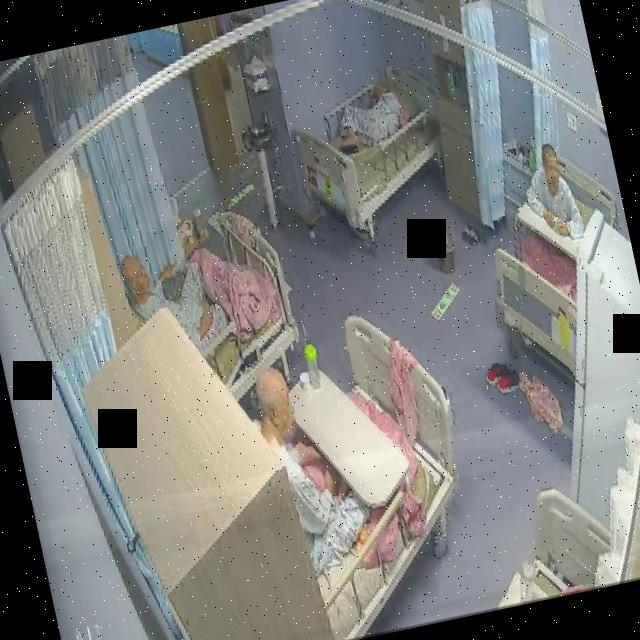bed: (255, 302, 491, 640), (466, 143, 640, 391), (148, 204, 310, 416), (282, 58, 452, 238)
lie: (328, 80, 412, 166)
patient: (243, 346, 381, 580), (115, 226, 226, 362), (514, 136, 588, 248), (328, 80, 413, 164)
sit: (240, 344, 380, 583), (113, 226, 226, 360), (514, 136, 586, 247)
